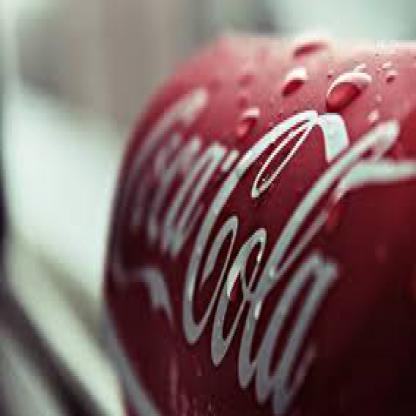METAL: (95, 31, 415, 414)
